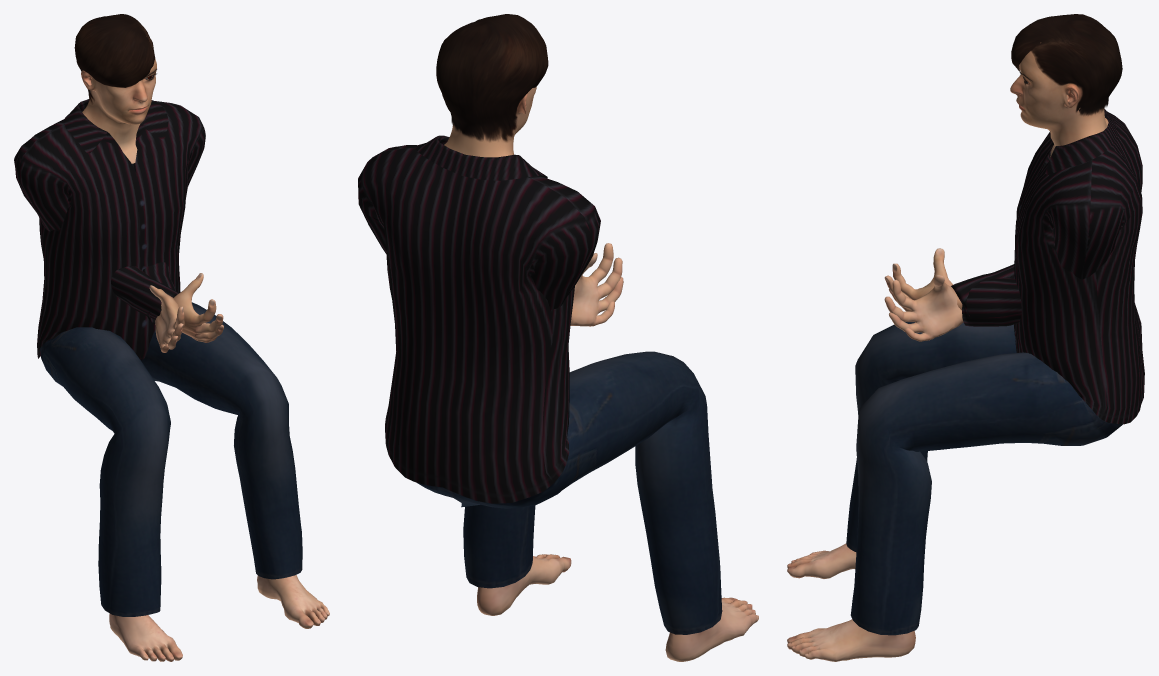
The model's file is congregant_m1.glb.
3 renders of one model, left to right at view 1: azimuth 30°, elevation 25°; view 2: azimuth 150°, elevation 25°; view 3: azimuth 270°, elevation 25°, orthographic. The views are drawn at different scales.
Visible parts, largest first — view 1: congregant_m1.male_casualsuit03, congregant_m1.body, congregant_m1.short03; view 2: congregant_m1.male_casualsuit03, congregant_m1.short03, congregant_m1.body; view 3: congregant_m1.male_casualsuit03, congregant_m1.body, congregant_m1.short03.
Boxes of the visible parts, x1,y1,x2,y2 form: congregant_m1.male_casualsuit03: [14, 99, 302, 616]; congregant_m1.body: [81, 59, 329, 661]; congregant_m1.short03: [74, 14, 155, 104]; congregant_m1.male_casualsuit03: [358, 135, 722, 634]; congregant_m1.short03: [436, 14, 548, 141]; congregant_m1.body: [444, 87, 758, 661]; congregant_m1.male_casualsuit03: [846, 109, 1144, 635]; congregant_m1.body: [787, 42, 1108, 661]; congregant_m1.short03: [1011, 14, 1122, 115].
Bounding box in the file's own units: 0.511 × 1.37 × 0.7481.
Materials: 6 (6 with a texture image).
